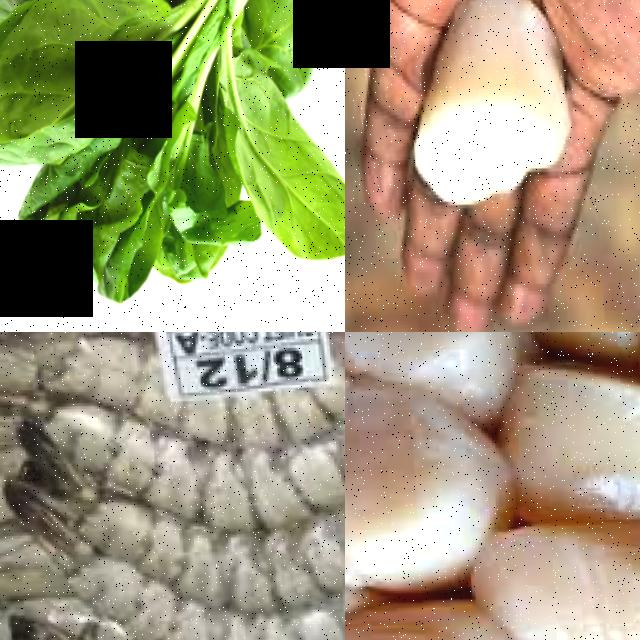sea scallops: (394, 0, 572, 213), (345, 379, 494, 589), (499, 367, 640, 526), (524, 517, 640, 640), (345, 332, 524, 399)
shrimp: (143, 440, 345, 526), (145, 515, 345, 597), (112, 607, 345, 640)
spinach: (0, 0, 181, 167), (241, 133, 345, 272), (239, 0, 323, 96)
